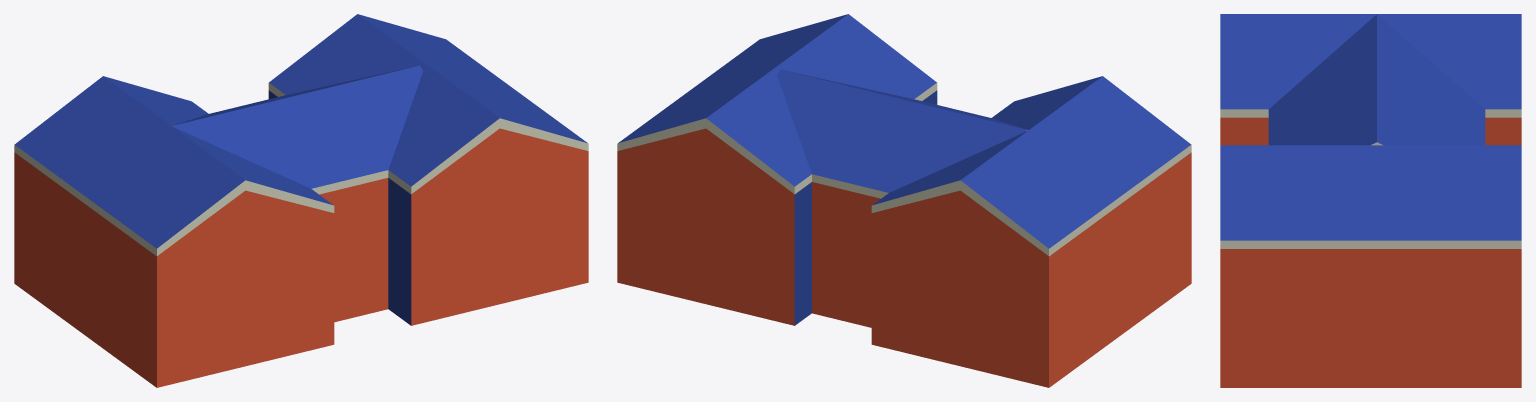
The model's file is Baekhak Hall.fbx.
The picture shows the model from 3 angles, left to right: view 1: azimuth 30°, elevation 25°; view 2: azimuth 150°, elevation 25°; view 3: azimuth 270°, elevation 25°; orthographic projection. The views are drawn at different scales.
Visible parts, largest first — view 1: Baekhak Hall; view 2: Baekhak Hall; view 3: Baekhak Hall.
Boxes of the visible parts, x1=… form: Baekhak Hall: x1=14, y1=14, x2=588, y2=387; Baekhak Hall: x1=617, y1=14, x2=1191, y2=387; Baekhak Hall: x1=1220, y1=14, x2=1521, y2=387.
Bounding box in the file's own units: 277 × 114 × 158.
